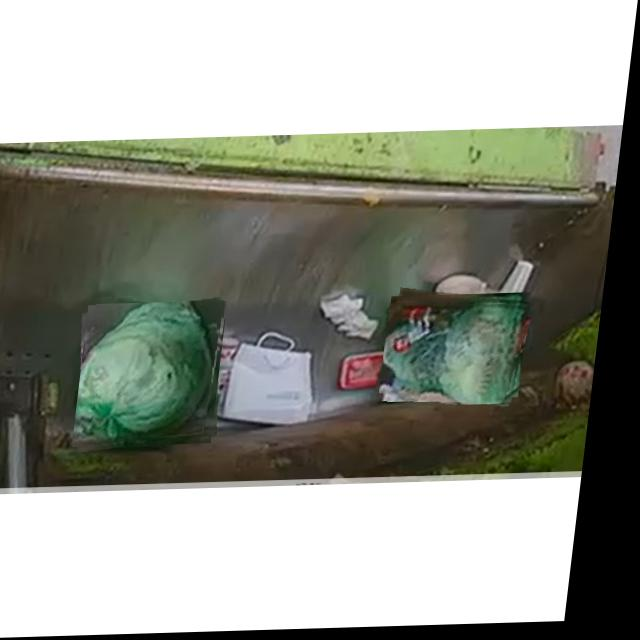general_trashbag: (87, 304, 225, 446), (393, 307, 536, 408)
